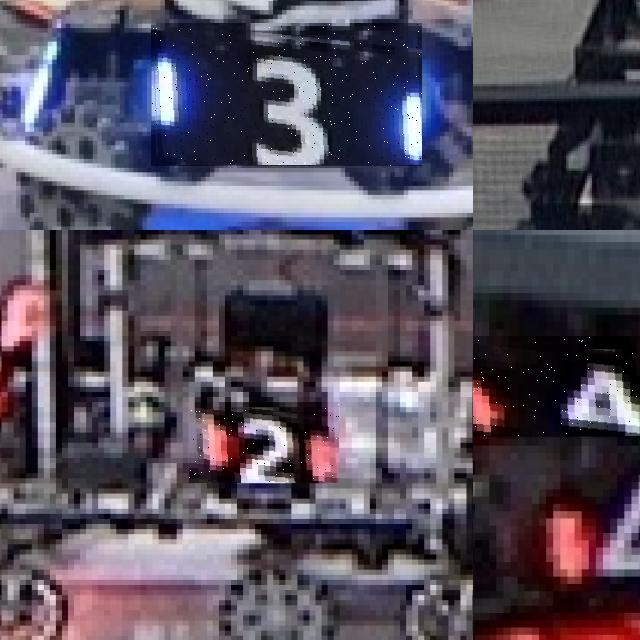B3: (151, 24, 422, 168)
R2: (189, 402, 339, 483)
R4: (473, 336, 640, 438), (539, 460, 640, 605)
